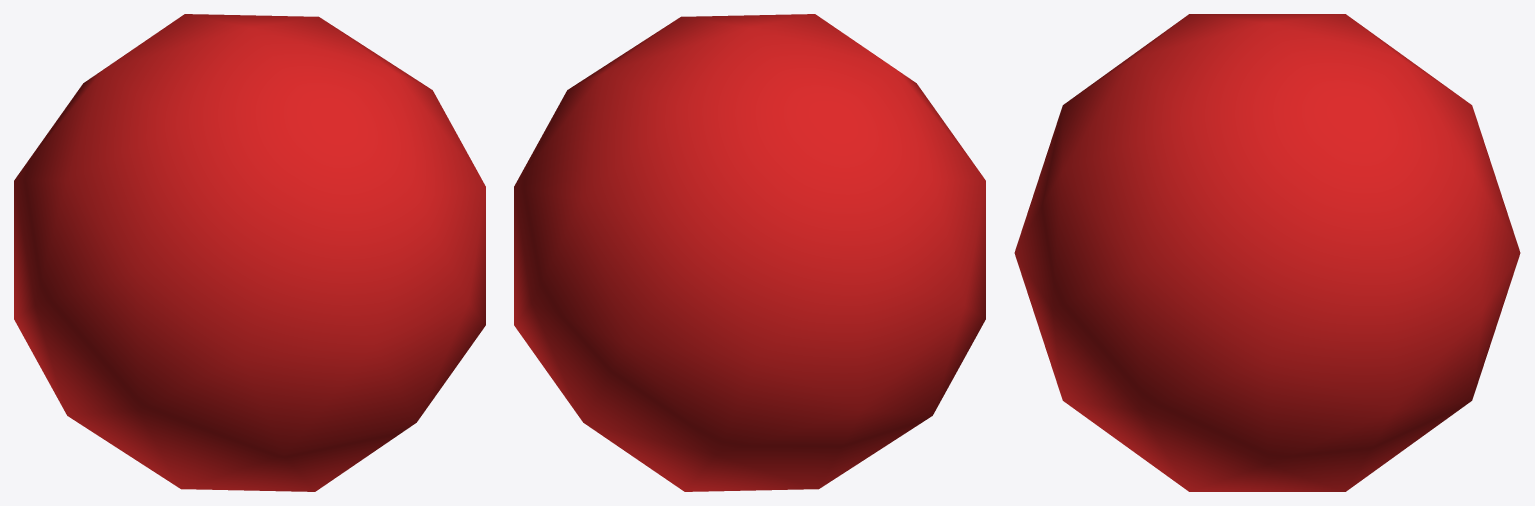
The picture shows the model from 3 angles, left to right: view 1: azimuth 30°, elevation 25°; view 2: azimuth 150°, elevation 25°; view 3: azimuth 270°, elevation 25°; orthographic projection.
Parts seen in each view (by area): view 1: Polyhedron; view 2: Polyhedron; view 3: Polyhedron.
Part boxes in pixels (<box>): Polyhedron: <box>14,14,485,491</box>; Polyhedron: <box>514,14,985,491</box>; Polyhedron: <box>1014,14,1520,491</box>.
Size of the model in its own units: 0.5 by 0.5 by 0.5.
